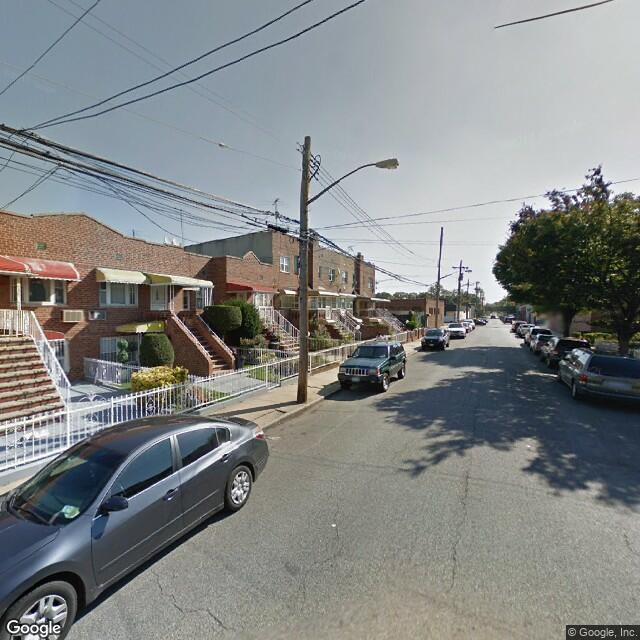litter: (330, 523, 336, 529)
